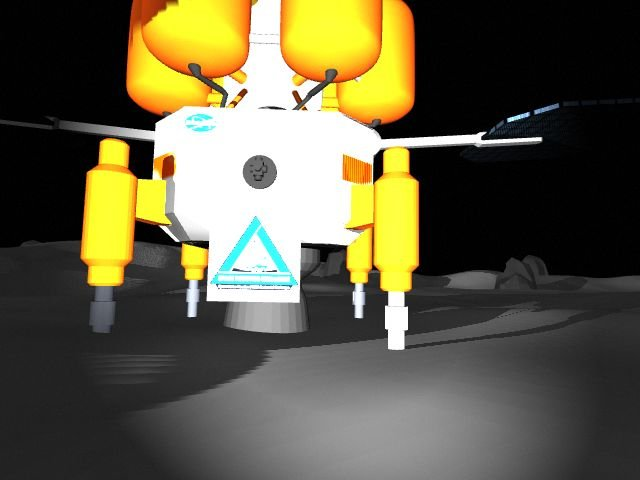basemarker: (210, 215, 298, 291)
